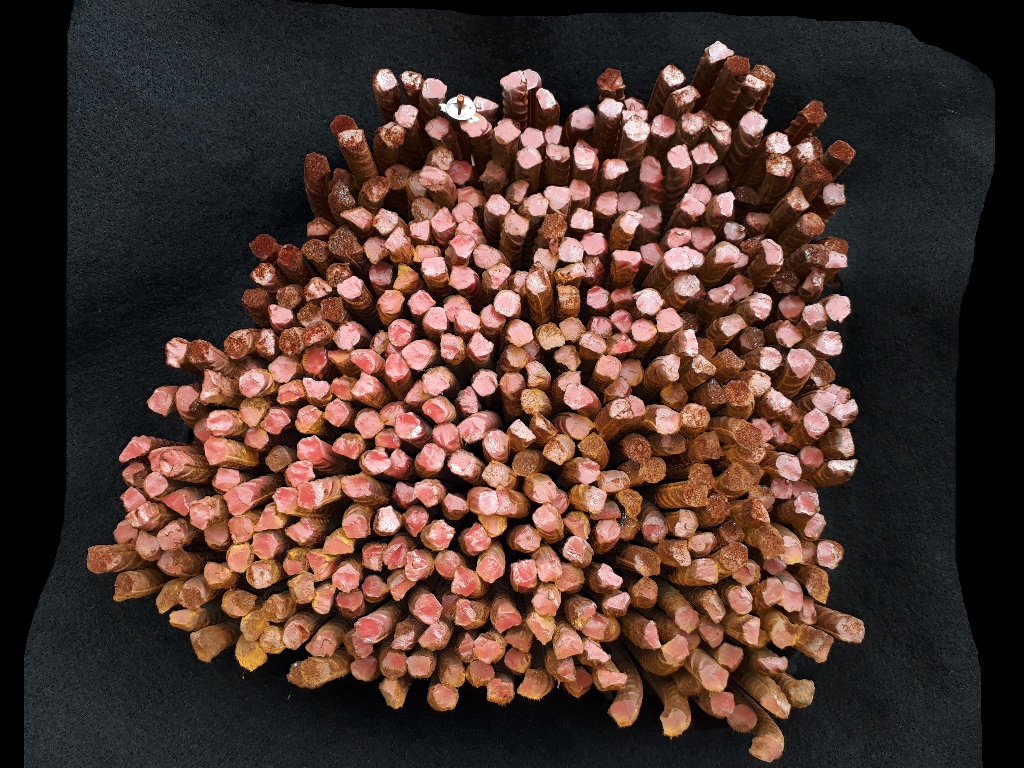dipstick: (191, 631, 221, 663), (191, 498, 221, 529), (330, 227, 361, 256), (423, 367, 454, 396), (224, 590, 258, 616), (423, 523, 455, 550), (414, 593, 442, 623), (158, 522, 186, 552), (419, 624, 450, 651), (295, 405, 323, 434), (631, 577, 658, 607), (751, 736, 782, 762), (119, 436, 150, 462), (563, 384, 594, 410), (594, 565, 622, 593), (353, 374, 381, 402), (808, 570, 831, 603), (729, 704, 756, 732), (564, 538, 592, 565), (563, 510, 590, 538), (481, 460, 509, 487), (160, 450, 189, 476), (224, 330, 250, 359), (772, 619, 797, 649), (379, 679, 404, 709), (427, 687, 458, 711), (156, 582, 180, 613), (200, 370, 224, 401), (635, 288, 662, 315), (333, 323, 360, 350), (445, 294, 472, 321), (403, 343, 430, 370), (434, 423, 461, 450), (511, 561, 537, 589), (273, 486, 299, 514), (517, 672, 546, 697), (416, 445, 445, 470), (536, 322, 565, 347), (113, 572, 136, 603), (158, 551, 190, 573), (683, 404, 710, 430), (764, 694, 791, 720), (557, 567, 584, 593), (238, 643, 264, 670), (283, 550, 309, 577), (247, 562, 274, 588), (252, 533, 278, 560), (250, 234, 277, 260), (356, 411, 382, 438), (460, 418, 486, 445), (828, 138, 856, 163), (787, 349, 815, 374), (379, 653, 407, 678), (255, 506, 283, 531), (270, 357, 298, 382), (811, 633, 835, 662), (307, 634, 336, 658), (224, 489, 253, 513), (296, 436, 325, 460), (291, 575, 314, 605), (726, 380, 752, 406), (720, 544, 746, 570), (242, 613, 268, 639), (180, 583, 206, 609), (507, 319, 533, 345), (699, 432, 724, 459), (838, 618, 865, 643), (493, 605, 520, 630), (639, 458, 666, 483), (566, 414, 594, 438), (582, 642, 611, 665), (393, 622, 415, 652), (777, 454, 802, 480), (605, 592, 631, 617), (474, 637, 500, 662), (454, 569, 480, 594), (417, 481, 442, 507), (364, 176, 390, 201), (363, 450, 389, 475), (424, 396, 449, 422), (449, 450, 474, 476), (555, 345, 581, 370), (664, 636, 688, 663), (663, 708, 687, 735), (618, 489, 642, 516), (230, 517, 254, 544), (342, 474, 369, 498), (529, 616, 552, 644), (136, 531, 159, 559), (621, 358, 644, 386), (462, 114, 491, 136), (342, 209, 371, 231), (556, 261, 585, 283), (464, 525, 489, 550), (334, 565, 359, 590), (494, 119, 520, 143), (812, 360, 836, 386), (634, 553, 660, 577), (148, 389, 172, 415), (264, 409, 290, 433), (373, 208, 397, 234), (334, 434, 360, 458), (520, 389, 546, 413), (512, 451, 538, 475), (775, 324, 802, 347), (735, 424, 762, 447), (725, 467, 752, 490), (701, 667, 728, 690), (228, 544, 251, 571), (279, 244, 302, 271), (304, 323, 331, 346), (303, 348, 326, 375), (421, 167, 448, 190), (675, 509, 697, 537), (261, 627, 283, 655), (302, 377, 330, 399), (681, 194, 706, 218), (827, 297, 851, 322), (791, 680, 815, 705), (611, 702, 636, 726), (544, 438, 568, 463), (407, 655, 432, 679), (304, 661, 329, 685), (205, 438, 229, 463), (210, 411, 235, 435), (250, 263, 275, 287), (469, 333, 494, 357), (325, 401, 349, 426), (396, 414, 421, 438), (298, 484, 322, 509), (511, 419, 535, 444), (817, 542, 840, 568), (406, 551, 429, 577), (288, 461, 314, 484), (441, 334, 464, 360), (342, 515, 368, 538), (474, 369, 497, 395), (766, 155, 793, 177), (717, 348, 744, 370), (668, 540, 690, 567), (534, 590, 556, 617), (287, 520, 314, 542), (485, 430, 507, 457), (169, 611, 200, 630), (211, 468, 239, 489), (758, 652, 787, 672), (130, 506, 159, 526), (742, 112, 766, 136), (781, 294, 805, 318), (380, 291, 404, 315), (351, 350, 375, 374), (409, 290, 433, 314), (500, 371, 524, 395), (674, 273, 699, 296), (805, 410, 828, 435), (685, 481, 708, 506), (675, 607, 698, 632), (489, 680, 512, 705), (535, 504, 558, 529), (437, 550, 460, 575), (240, 370, 263, 395), (321, 298, 346, 321), (305, 152, 330, 175), (381, 123, 404, 148), (557, 285, 580, 310), (639, 156, 661, 182), (730, 589, 752, 615), (395, 265, 417, 291), (279, 330, 301, 356), (375, 68, 397, 94), (542, 215, 568, 237), (495, 293, 521, 315), (833, 400, 860, 421), (379, 506, 400, 533), (458, 386, 478, 414), (596, 670, 627, 688), (818, 332, 842, 355), (658, 309, 682, 332), (478, 558, 502, 581), (267, 446, 290, 470), (240, 405, 263, 429), (339, 276, 363, 299), (425, 116, 449, 139), (597, 355, 621, 378), (718, 645, 743, 667), (471, 489, 493, 514), (390, 575, 412, 600), (357, 620, 382, 642), (285, 624, 307, 649), (188, 339, 210, 364), (505, 214, 530, 236), (598, 69, 624, 90), (773, 271, 799, 292), (665, 248, 691, 269), (556, 636, 582, 657), (467, 663, 493, 684), (204, 563, 230, 584), (176, 385, 197, 411), (389, 321, 410, 347), (321, 538, 353, 555), (679, 330, 699, 357), (314, 587, 334, 614), (421, 258, 448, 278), (386, 354, 406, 381), (276, 383, 304, 402), (256, 329, 275, 357), (483, 161, 506, 184), (769, 390, 792, 413), (656, 410, 679, 433), (585, 617, 608, 640), (577, 460, 600, 483), (123, 463, 146, 486), (304, 240, 327, 263), (387, 165, 410, 188), (560, 239, 583, 262), (804, 99, 826, 123), (766, 132, 790, 154), (800, 137, 822, 161), (571, 108, 595, 130), (691, 227, 715, 249), (800, 214, 824, 236), (795, 492, 819, 514), (643, 517, 665, 541), (517, 526, 541, 548), (444, 495, 466, 519), (369, 264, 393, 286), (475, 245, 499, 267), (587, 287, 611, 309), (561, 317, 583, 341), (627, 439, 651, 461), (751, 294, 772, 319), (703, 595, 724, 620), (569, 671, 590, 696), (429, 149, 454, 170), (581, 332, 606, 353), (662, 384, 688, 404), (763, 579, 783, 605), (456, 599, 476, 625), (167, 338, 187, 364), (804, 163, 831, 182), (764, 239, 783, 266), (406, 509, 425, 536), (640, 205, 662, 228), (711, 693, 733, 716), (113, 523, 136, 545), (144, 473, 166, 496), (298, 304, 321, 326), (395, 105, 417, 128), (693, 143, 717, 164), (625, 120, 649, 141), (597, 190, 618, 214), (784, 584, 802, 612), (698, 559, 719, 583), (352, 658, 376, 679), (440, 665, 464, 686), (263, 597, 284, 621), (276, 286, 300, 307), (366, 238, 387, 262), (433, 209, 454, 233), (411, 198, 435, 219), (451, 268, 475, 289), (390, 449, 408, 477), (528, 363, 549, 387), (740, 328, 765, 348), (550, 660, 575, 680), (585, 489, 605, 514), (752, 498, 771, 524), (479, 515, 505, 534), (305, 281, 331, 300), (454, 160, 473, 186), (602, 472, 629, 490), (497, 487, 515, 514), (662, 64, 684, 86), (669, 146, 691, 168), (574, 147, 596, 169), (640, 243, 662, 265), (708, 495, 730, 517), (596, 520, 618, 542), (205, 525, 227, 547), (400, 71, 422, 93), (823, 183, 846, 204), (547, 187, 570, 208), (571, 208, 594, 229), (760, 346, 781, 369), (805, 514, 826, 537), (539, 559, 560, 582), (245, 428, 268, 449), (452, 236, 475, 257), (533, 413, 556, 434), (736, 187, 760, 207), (518, 149, 542, 169), (632, 321, 656, 341), (762, 535, 782, 559), (662, 434, 686, 454), (690, 532, 714, 552), (507, 650, 531, 670), (458, 187, 482, 207), (486, 194, 510, 214), (456, 312, 480, 332), (363, 576, 387, 596), (612, 309, 632, 333), (578, 436, 602, 456), (671, 87, 699, 104), (743, 617, 760, 645), (507, 632, 532, 651), (364, 545, 383, 570), (545, 144, 571, 162), (719, 315, 745, 333), (609, 335, 635, 353), (645, 621, 661, 650), (537, 88, 558, 110), (583, 233, 604, 255), (731, 277, 753, 298), (801, 446, 823, 467), (720, 521, 742, 542), (700, 625, 722, 646), (307, 551, 328, 573), (123, 489, 145, 510), (536, 249, 558, 270), (527, 270, 548, 292), (506, 345, 527, 367), (653, 116, 676, 136), (599, 98, 622, 118), (521, 128, 544, 148), (527, 194, 547, 217), (750, 371, 770, 394), (327, 264, 350, 284), (332, 378, 352, 401), (593, 503, 620, 520), (715, 243, 739, 262), (490, 265, 509, 289), (338, 592, 362, 611), (609, 400, 633, 419), (707, 379, 725, 404), (307, 218, 332, 236), (664, 355, 680, 383), (838, 430, 855, 456), (804, 305, 825, 326), (772, 479, 793, 500), (789, 187, 809, 209), (680, 112, 702, 132), (747, 212, 769, 232), (533, 480, 555, 500), (386, 228, 406, 250), (426, 308, 446, 330), (424, 79, 446, 99), (590, 316, 612, 336), (604, 160, 627, 179), (773, 422, 792, 445), (452, 202, 475, 221), (385, 545, 404, 568), (693, 358, 717, 376), (782, 541, 800, 565), (331, 114, 358, 130), (803, 268, 823, 289), (813, 391, 834, 411), (751, 485, 772, 505), (459, 633, 474, 661), (394, 483, 415, 503), (668, 229, 690, 248), (333, 185, 355, 204), (405, 380, 424, 402), (709, 42, 732, 60), (268, 306, 292, 323), (459, 220, 483, 237), (473, 97, 500, 112), (413, 245, 440, 260), (570, 180, 590, 200), (621, 212, 641, 232), (410, 220, 430, 240), (605, 380, 630, 396), (733, 565, 754, 584), (712, 121, 730, 143), (689, 183, 711, 201), (586, 257, 604, 279), (502, 71, 525, 88), (705, 167, 728, 184), (741, 446, 765, 462), (622, 517, 638, 541), (483, 307, 503, 326), (619, 192, 640, 210), (331, 167, 352, 185), (340, 130, 361, 148), (708, 286, 733, 301), (558, 371, 583, 386), (690, 463, 712, 480), (244, 288, 266, 305), (512, 271, 529, 293), (382, 405, 401, 424), (718, 191, 733, 215), (725, 222, 745, 240), (347, 643, 371, 658), (612, 287, 633, 304), (523, 67, 539, 89), (801, 602, 817, 624), (288, 662, 302, 687), (631, 395, 646, 418), (683, 246, 702, 264), (681, 311, 699, 330), (573, 607, 591, 626), (742, 237, 762, 254), (375, 434, 399, 448), (726, 57, 748, 72), (826, 237, 848, 252), (745, 76, 765, 92), (755, 65, 775, 81), (699, 338, 715, 358), (826, 252, 847, 267), (373, 331, 388, 352), (513, 180, 528, 201), (614, 250, 640, 262), (194, 418, 207, 442), (802, 541, 816, 563), (545, 125, 562, 143), (756, 419, 772, 438), (833, 386, 850, 403), (765, 560, 784, 575), (410, 170, 420, 198), (623, 109, 648, 120), (443, 594, 454, 619), (329, 351, 349, 364), (698, 110, 713, 127), (625, 97, 643, 109), (736, 256, 749, 268)
